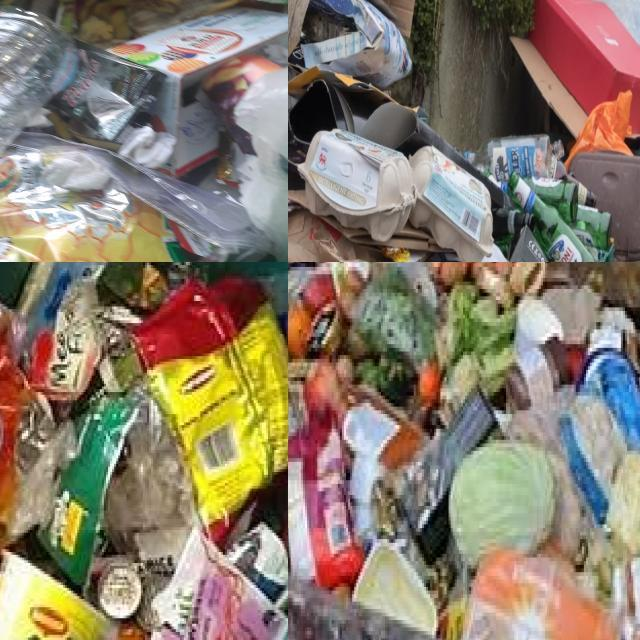Garbage: (288, 262, 640, 640), (0, 262, 288, 640), (288, 0, 610, 262)
Glass_bottle: (507, 170, 596, 262), (467, 135, 550, 185), (525, 176, 578, 224), (570, 204, 611, 250), (493, 206, 534, 240)
Plastic: (98, 563, 142, 620)
Plastic_Bag: (464, 551, 620, 640), (102, 395, 197, 540), (230, 60, 288, 262), (580, 348, 640, 449), (106, 93, 111, 97)
Plastic_Container: (0, 551, 107, 640), (353, 540, 438, 637)
Plastic_bottle: (0, 8, 78, 153)
Plastic_wraper: (132, 276, 288, 537), (0, 133, 271, 262), (37, 393, 139, 585), (152, 528, 288, 640), (288, 409, 363, 588), (0, 333, 60, 541), (17, 262, 107, 400), (49, 42, 164, 142), (99, 262, 206, 314), (215, 131, 240, 187)
Tetrapack: (108, 7, 288, 174)
